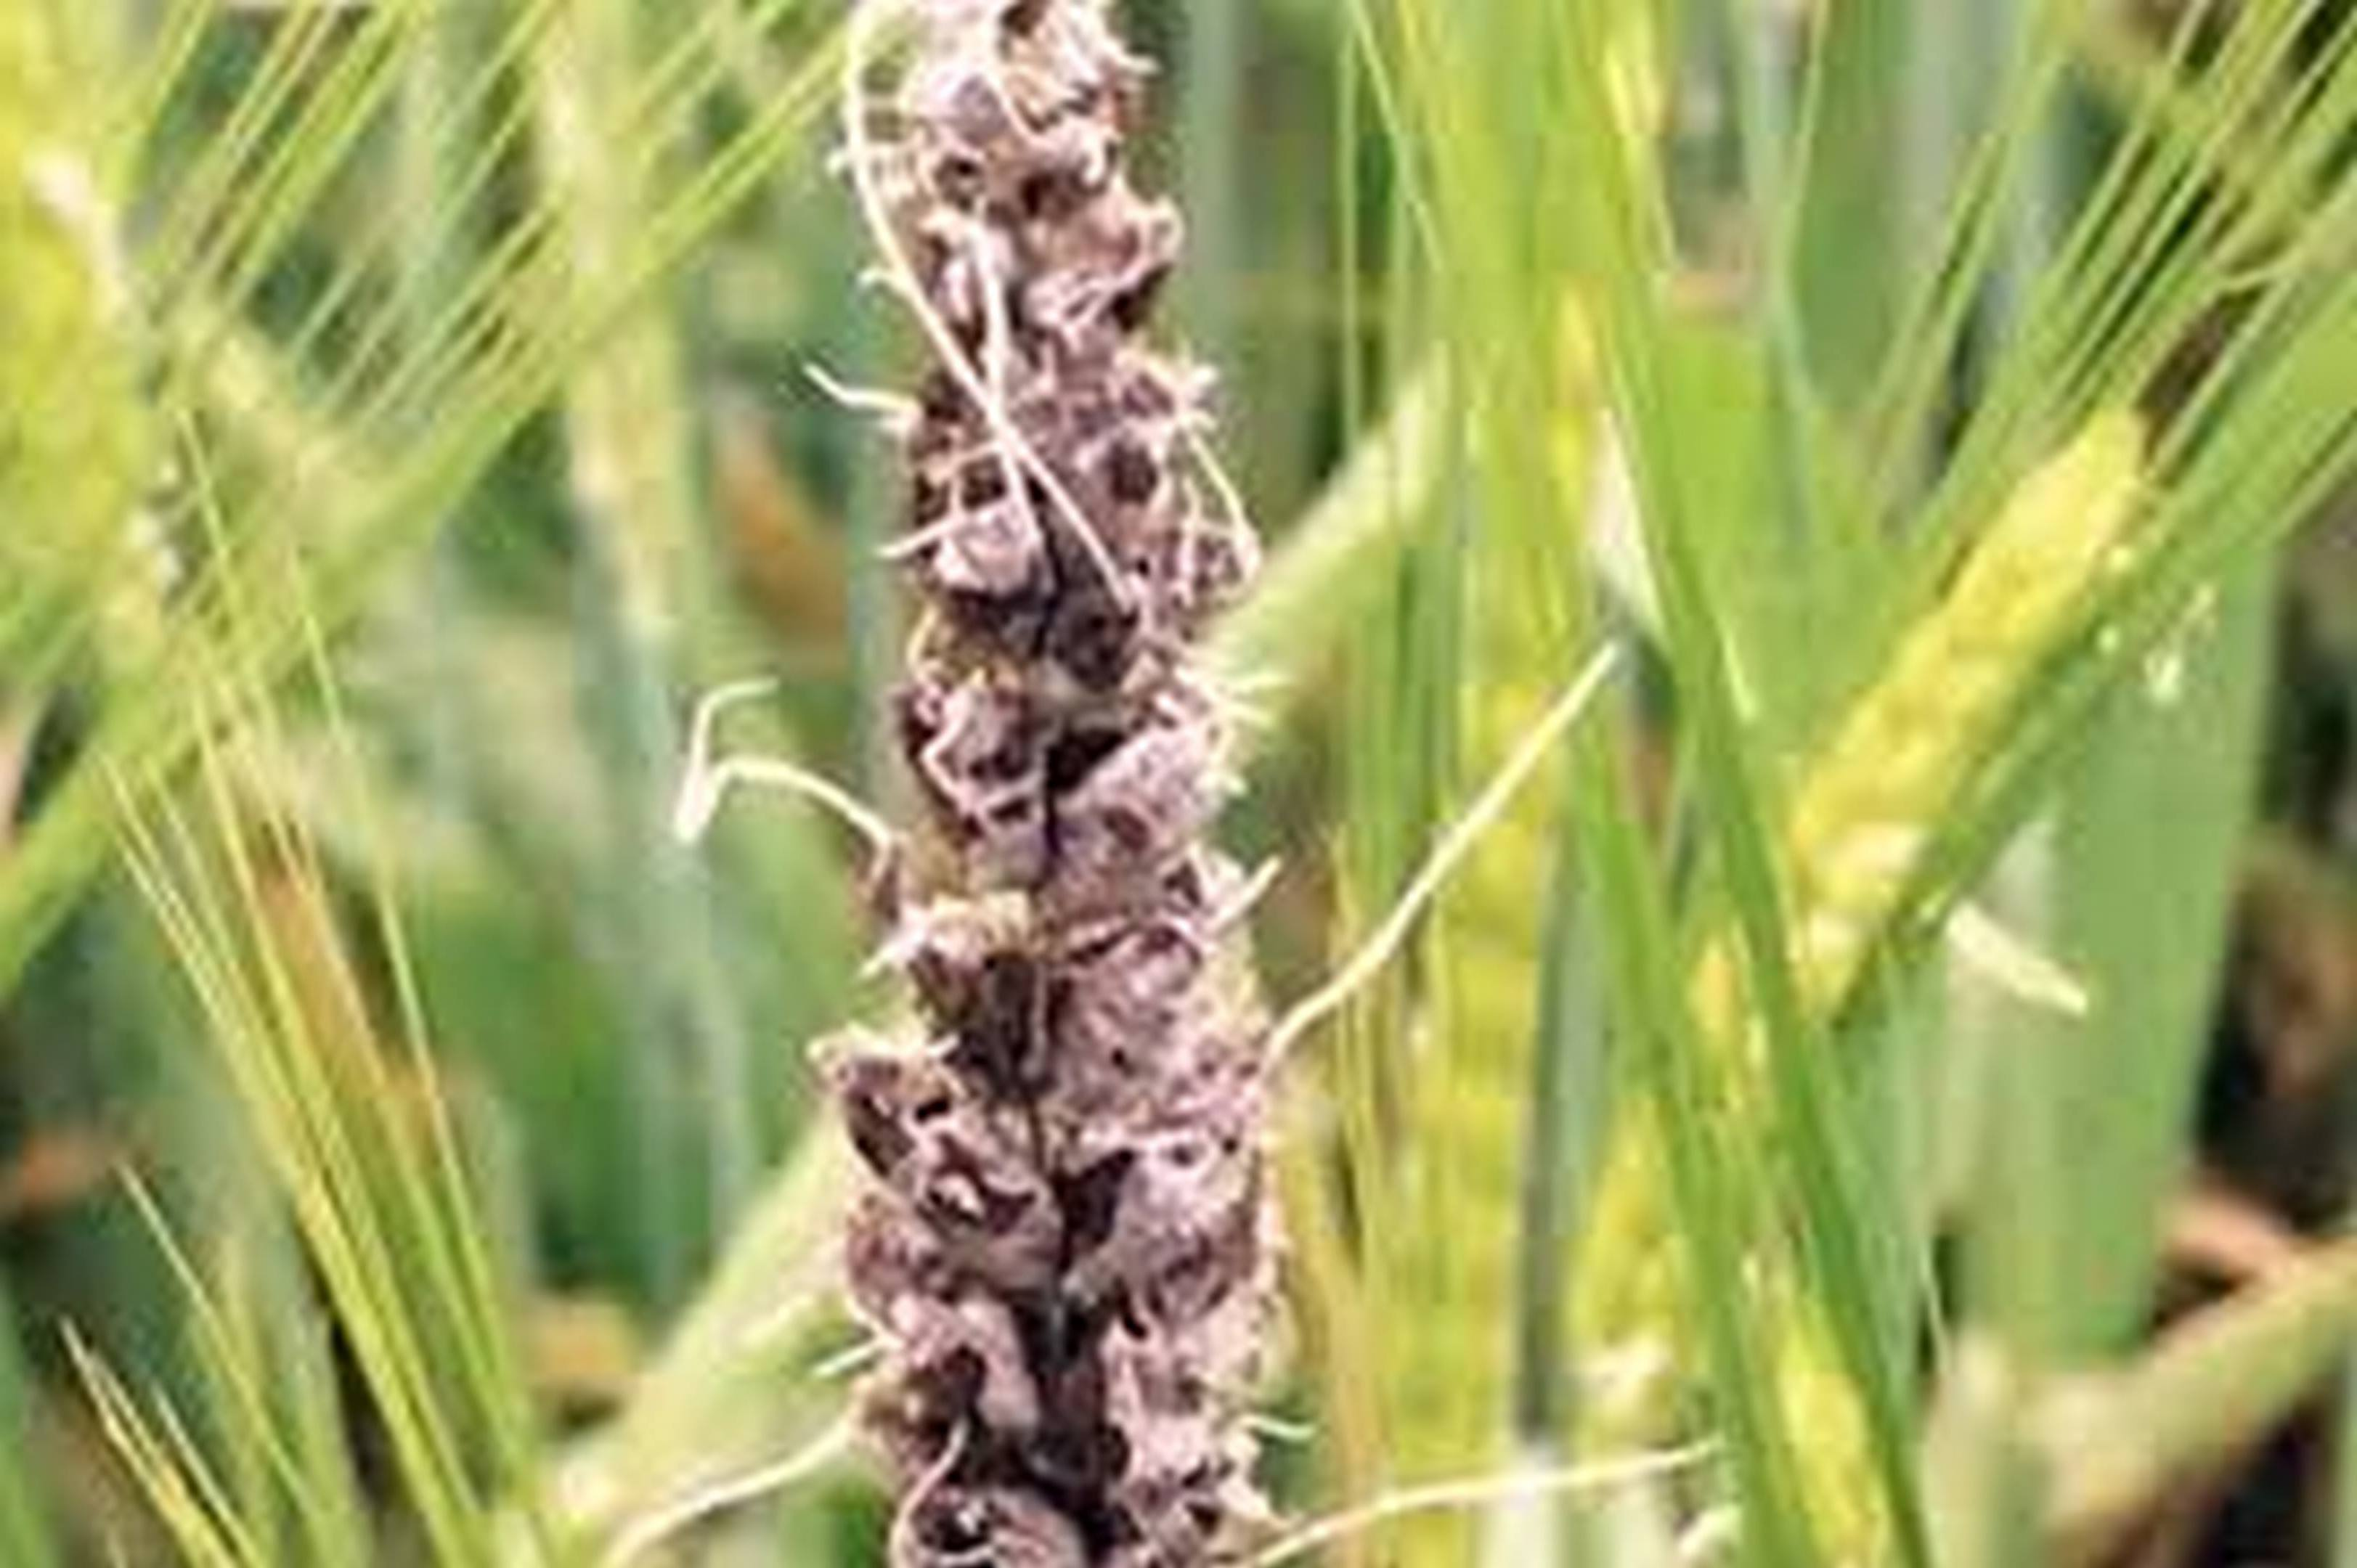Wheat Loose Smut: (833, 80, 1298, 1536)
